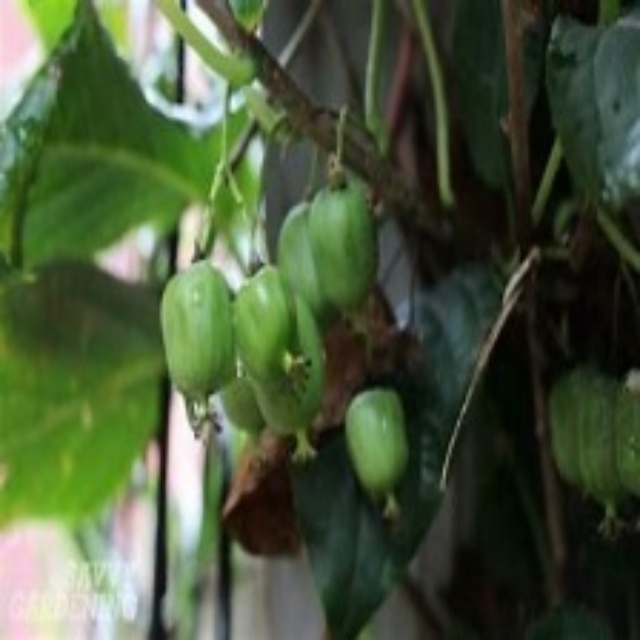kiwi: (154, 252, 269, 444), (231, 273, 323, 464), (279, 185, 373, 312), (342, 389, 413, 517)
